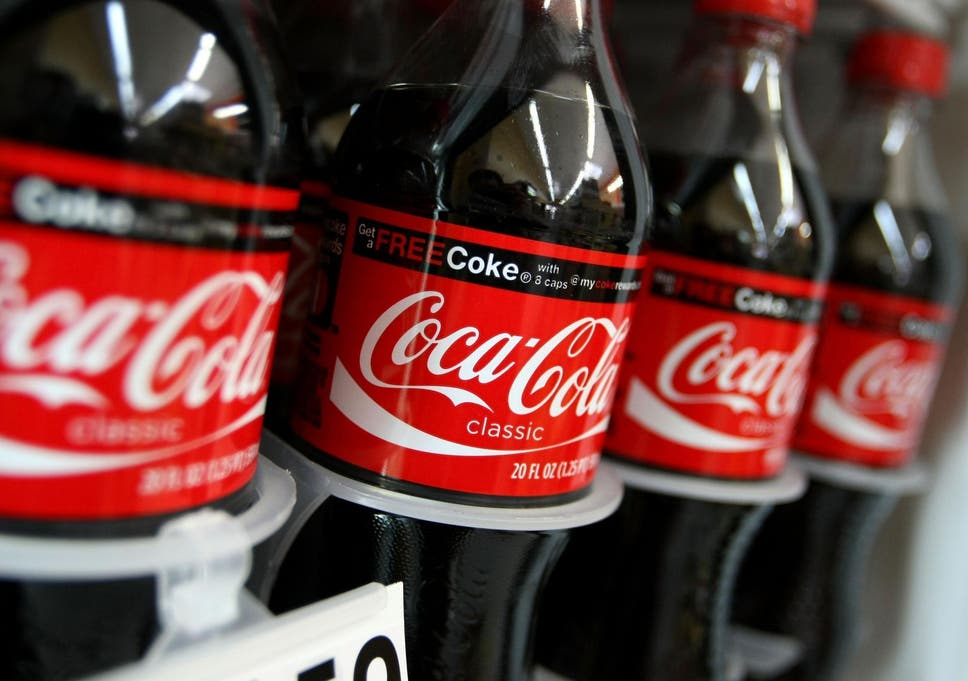Coca-Cola: (299, 23, 619, 680)
Copy of Coca-Cola: (1, 18, 320, 675), (638, 16, 810, 678)
Copy of Copy of Coca-Cola: (796, 19, 968, 681)
